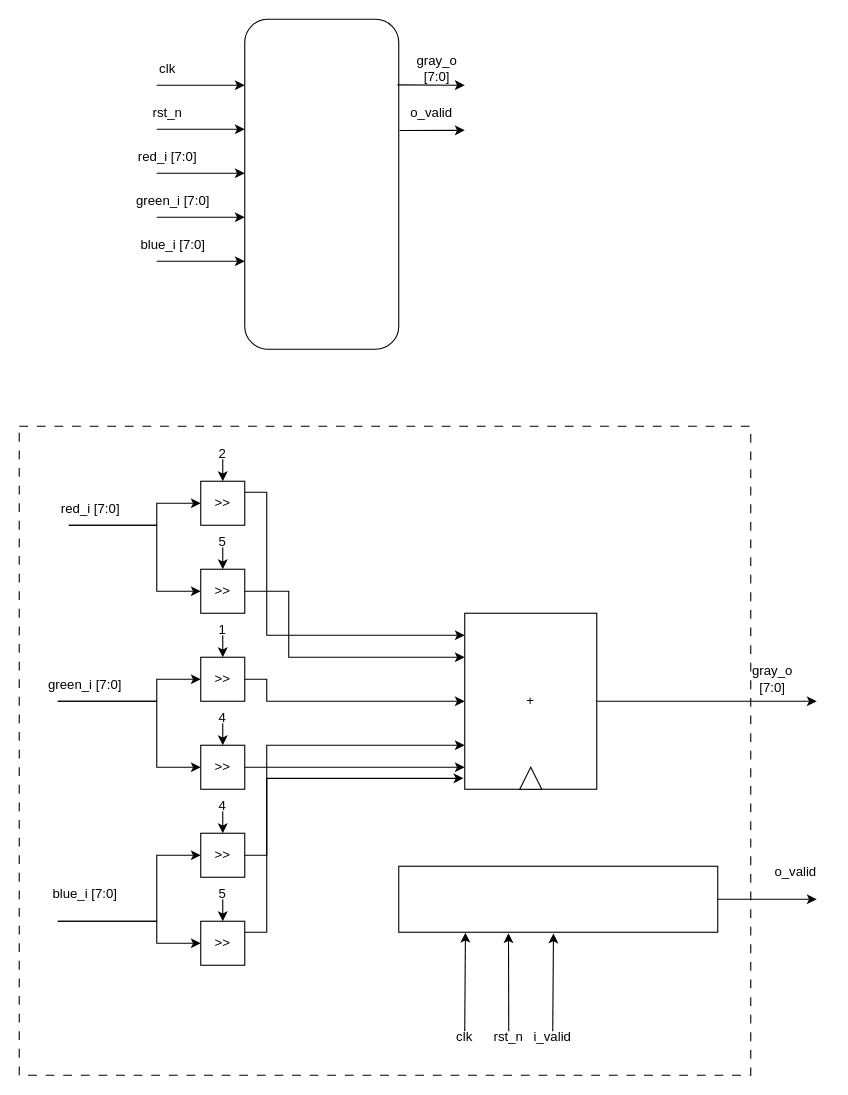
Some shapes in this 848 by 1095 pixel diagram are drawn without their labels. The shapes that lost their labels are listed below. From the top down, each one's box as (x1, y1, x2, y2) in pixels, then its label:
(244, 18, 399, 349): RGB2Gray
(398, 865, 718, 932): Controller
